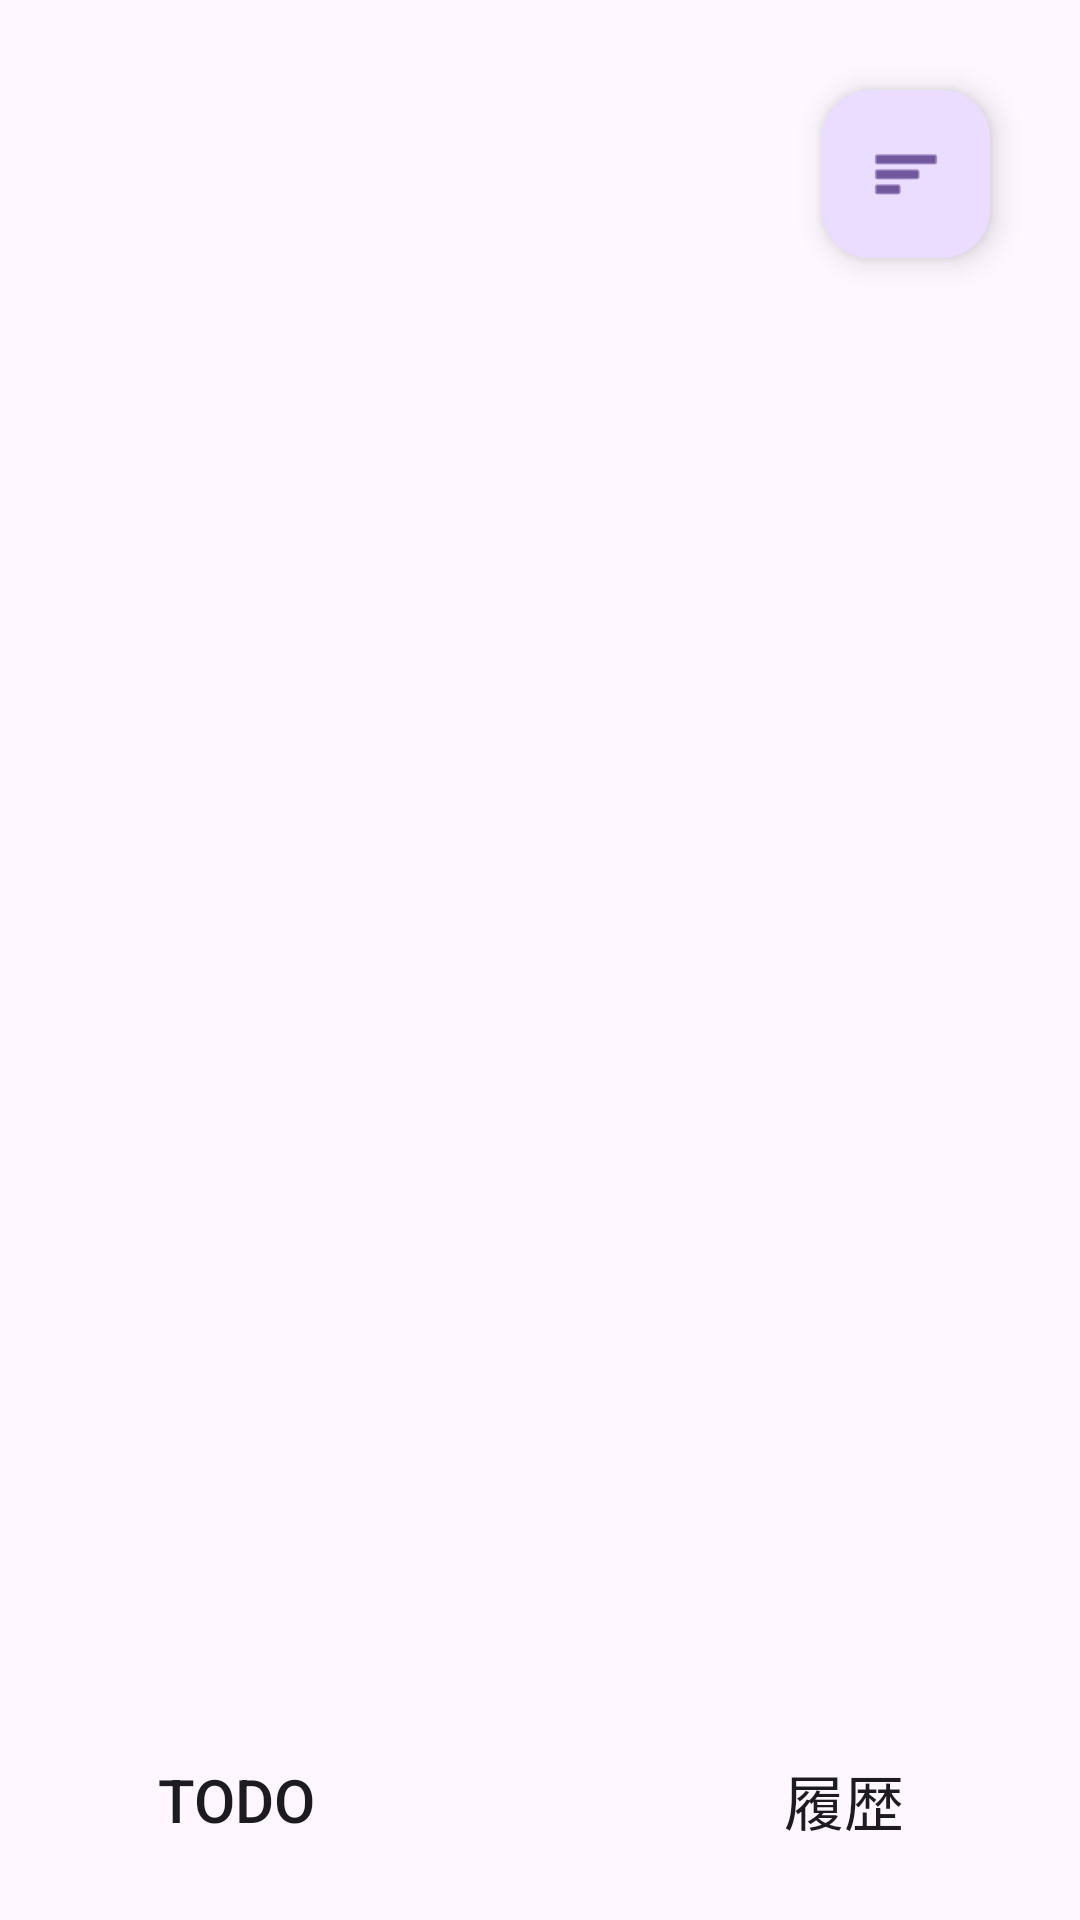

Screen size 1080*1920. Icon name, then its center in pixels as [x,y]:
sort by size: [906,174]
